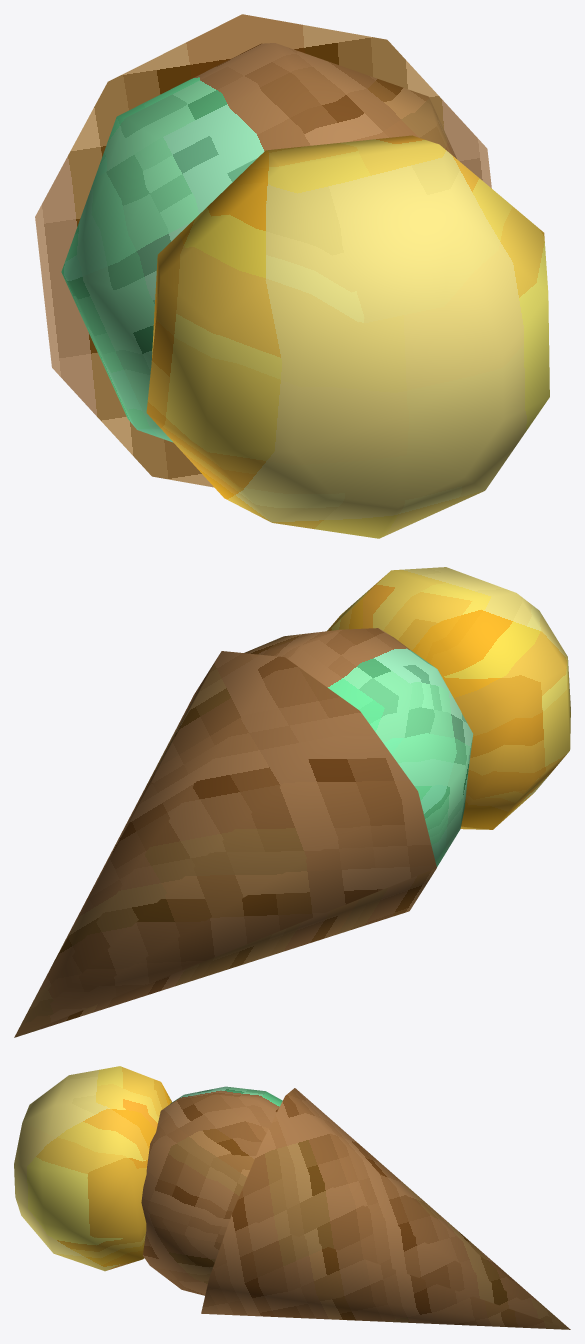
Rendered from icecream03.dae.
The picture shows the model from 3 angles, top to bottom: view 1: azimuth 30°, elevation 25°; view 2: azimuth 150°, elevation 25°; view 3: azimuth 270°, elevation 25°; orthographic projection. The views are drawn at different scales.
Parts seen in each view (by area): view 1: icecream03; view 2: icecream03; view 3: icecream03.
Boxes of the visible parts, x1,y1,x2,y2 form: icecream03: (35,14,549,538); icecream03: (14,567,570,1037); icecream03: (14,1066,570,1329).
Size of the model in its own units: 6.07 by 5.77 by 13.59.
1 material, 1 textured.
